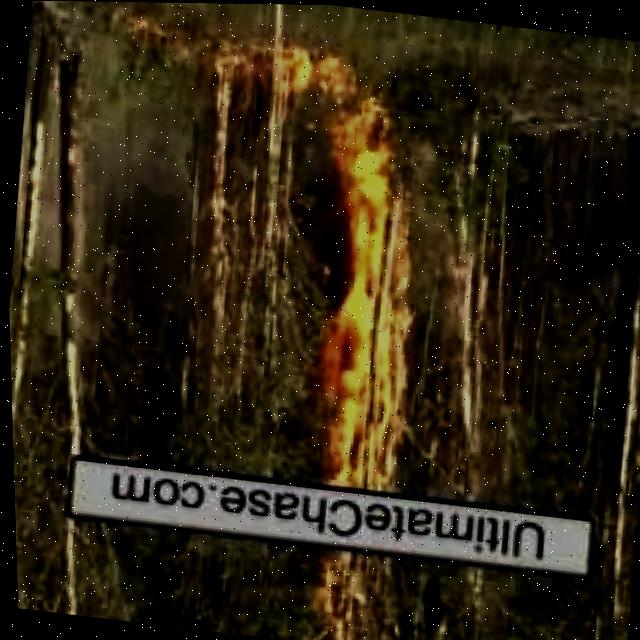Fire: (302, 177, 422, 480), (267, 38, 407, 167), (313, 544, 367, 640)
